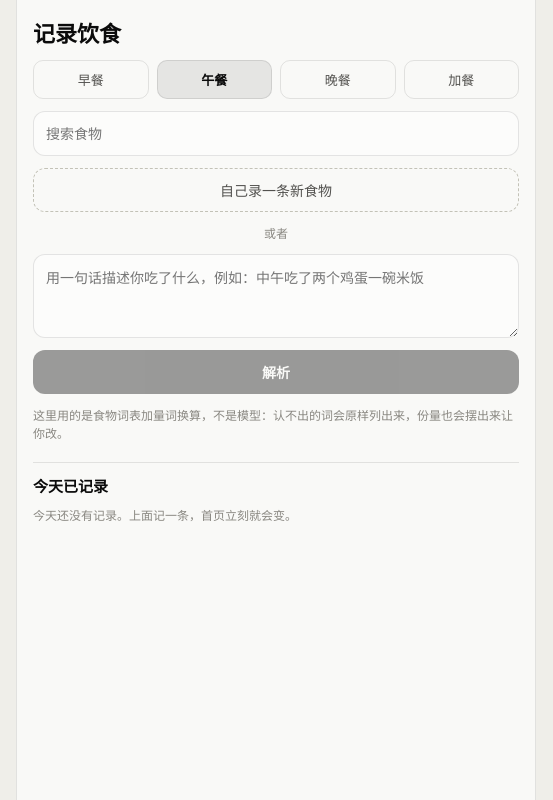
Test: 添加饮食页 › 改克数时热量跟着变，合计也跟着变
Type "鸡蛋" into the field with placeholder "搜索食物" at (276, 134), box [33,111,519,156]
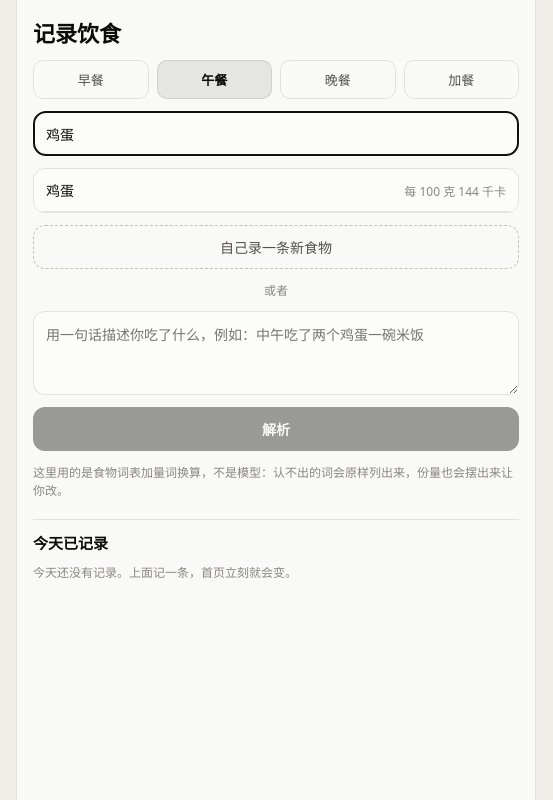
Click the button "鸡蛋 每 100 克 144 千卡" at (431, 192), box [34,169,518,212]
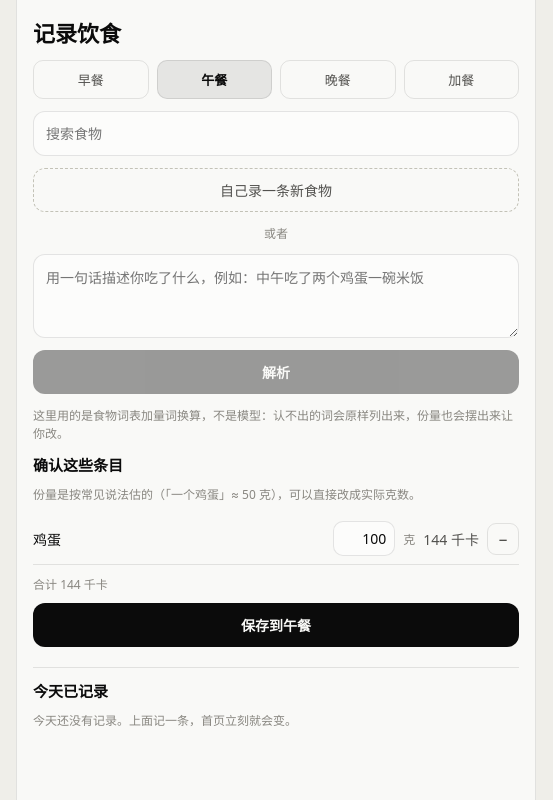
Expected: the text "144 千卡" is shown, [423,528,479,548]
Clear the field named "鸡蛋的克数" at (364, 538), box [333,521,395,556]
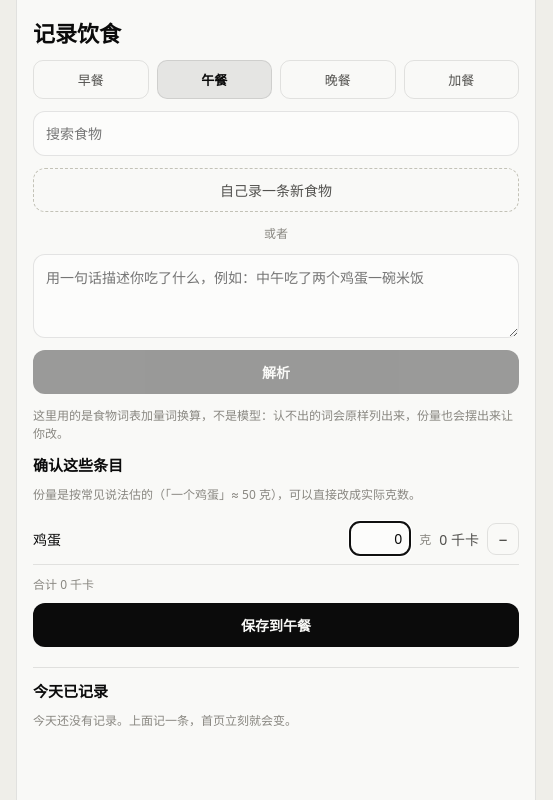
Type "200" into the field named "鸡蛋的克数" at (380, 538), box [349,521,411,556]
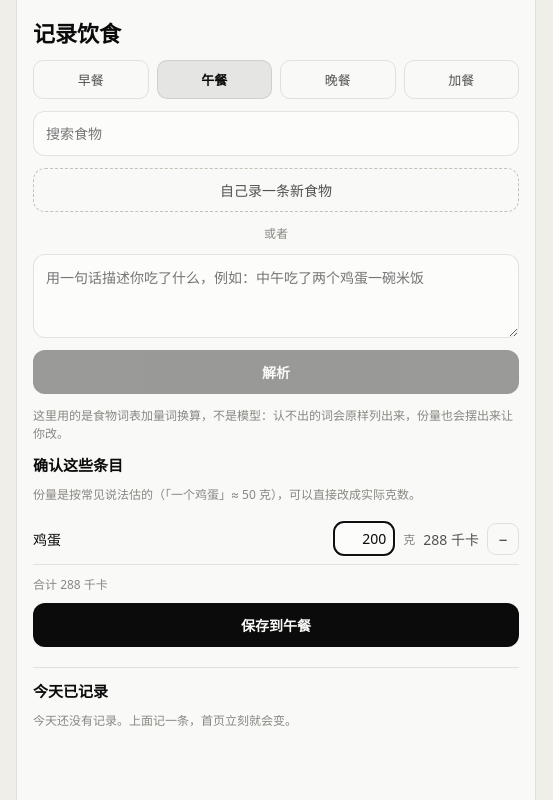
Expected: the text "288 千卡" is shown, [423,528,479,548]
Expected: the text "合计 288 千卡" is shown, [33,576,108,593]
